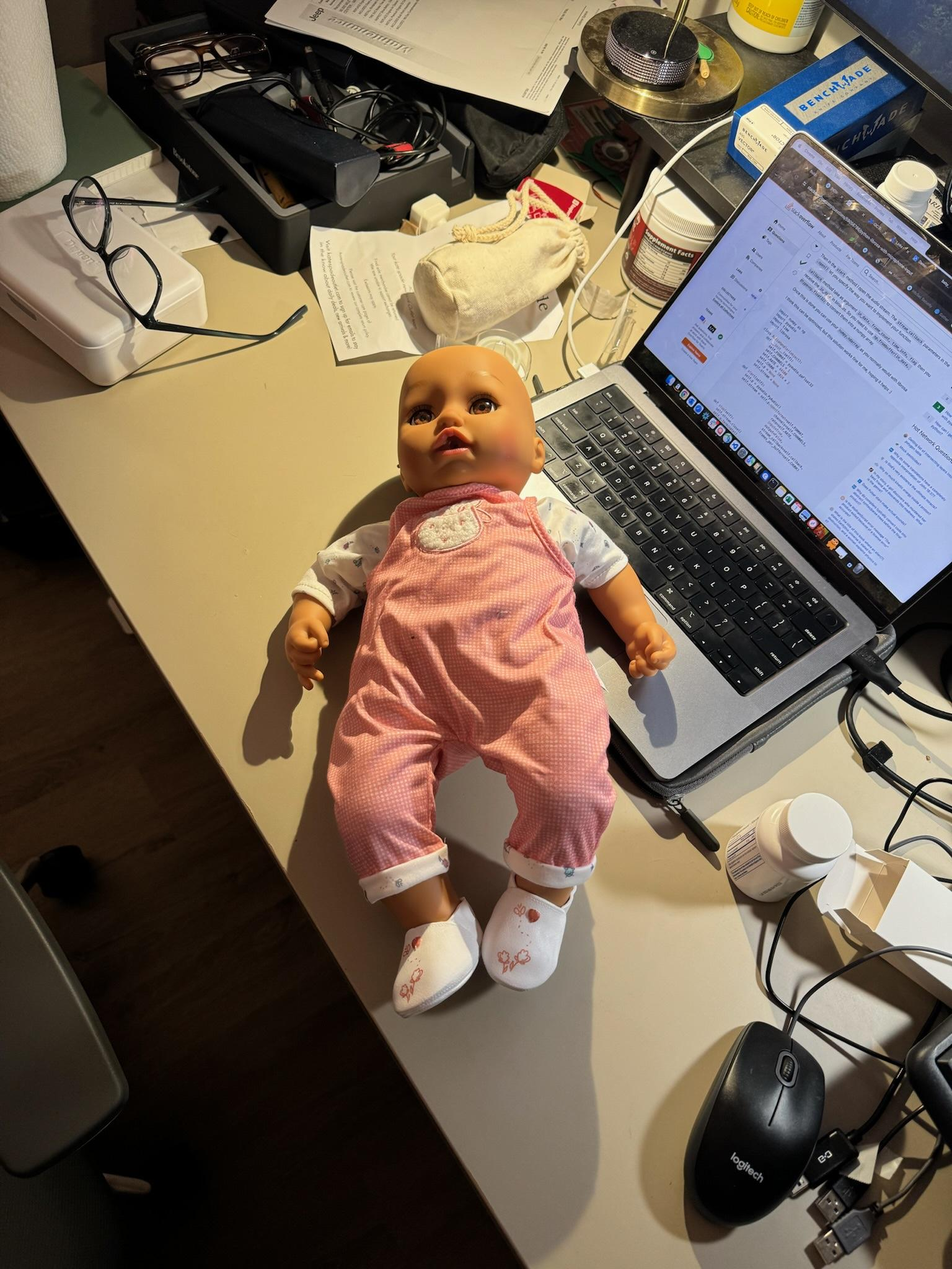baby: (260, 339, 647, 1006)
